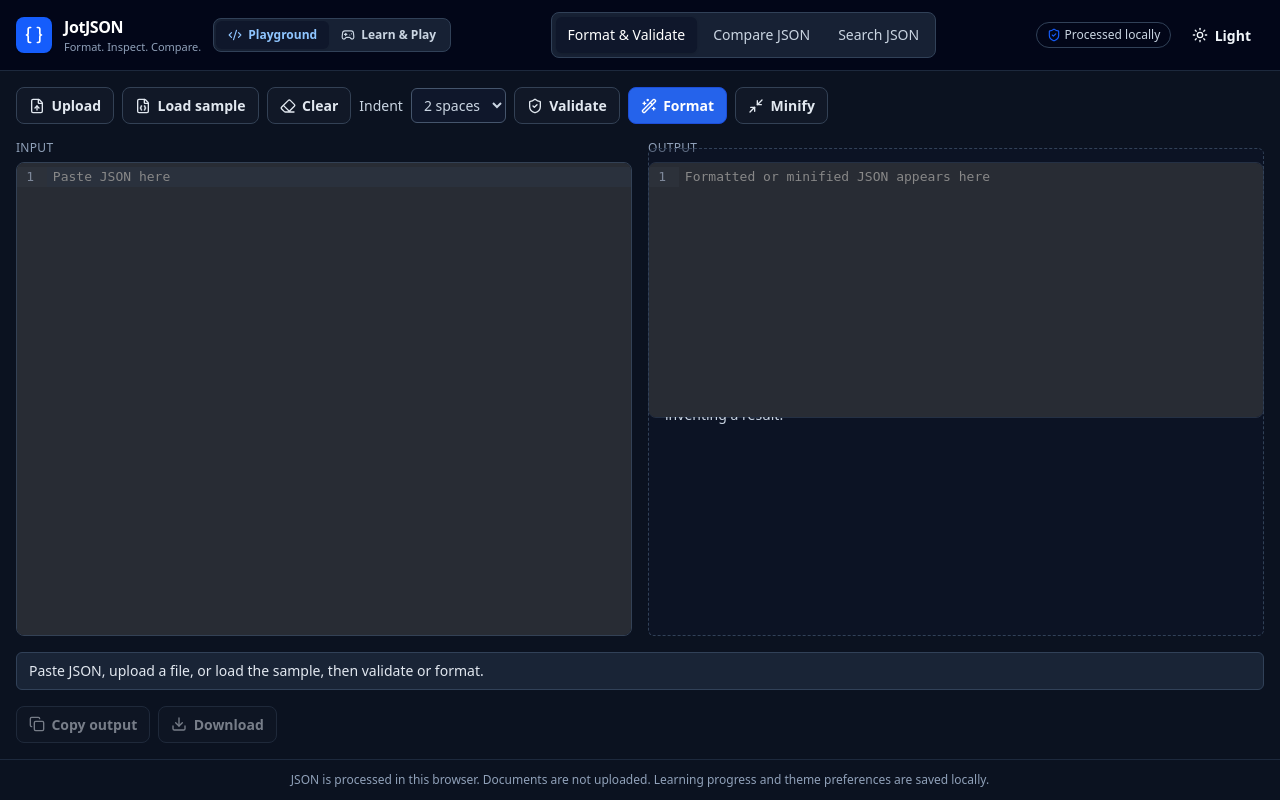
it: JotJSON app › switches workspaces
Click the tab "Compare JSON" at point(762, 35), box x1=701 y1=17 x2=822 y2=53
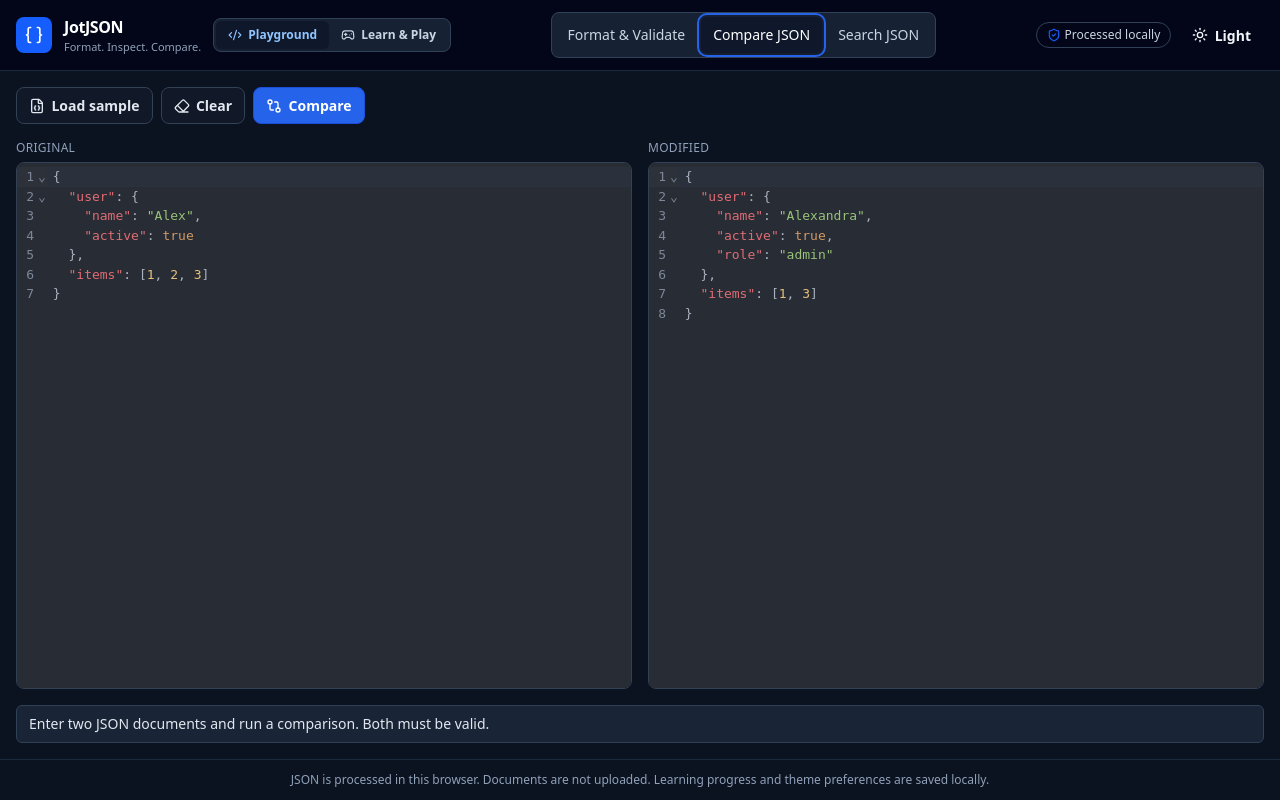
Result: the button "Compare" is shown at x1=253 y1=87 x2=365 y2=124
Click the tab "Search JSON" at point(879, 35), box x1=826 y1=17 x2=931 y2=53
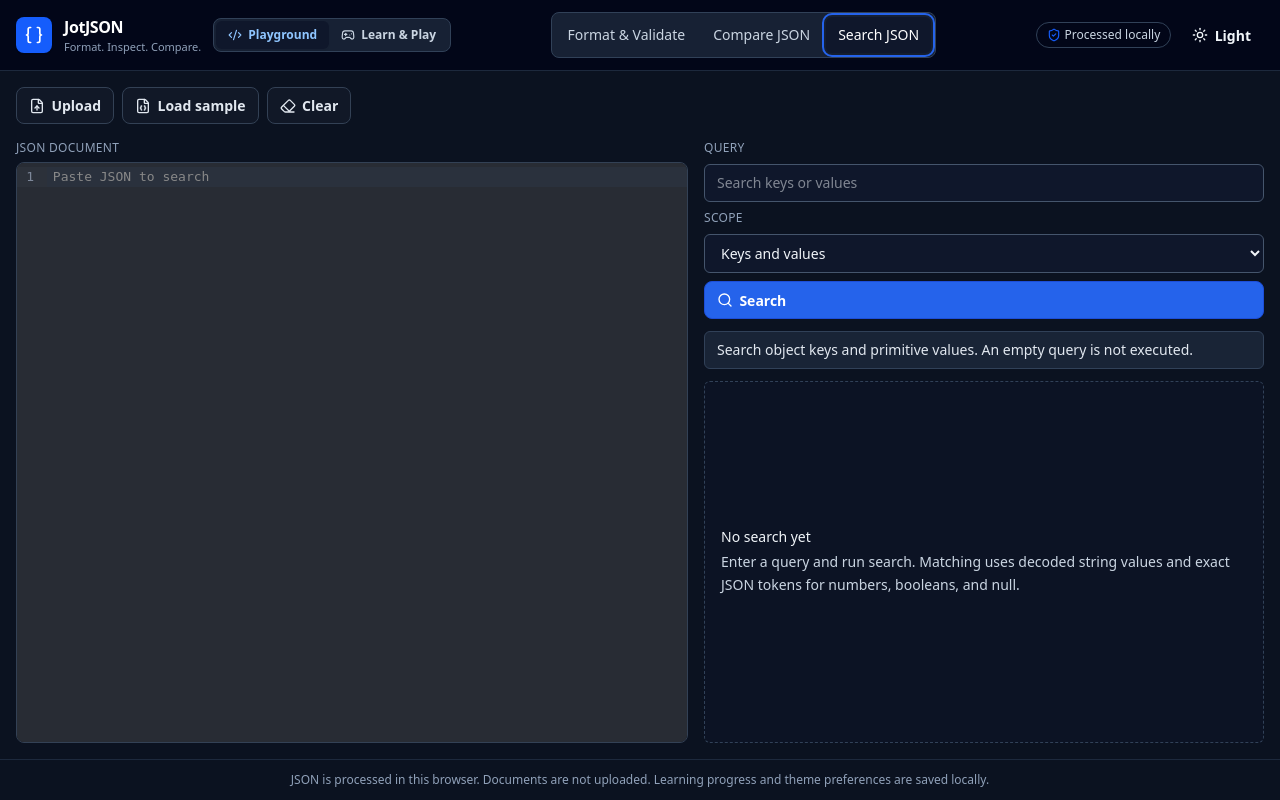
Result: the field labelled "Query" is shown at x1=704 y1=164 x2=1264 y2=202
